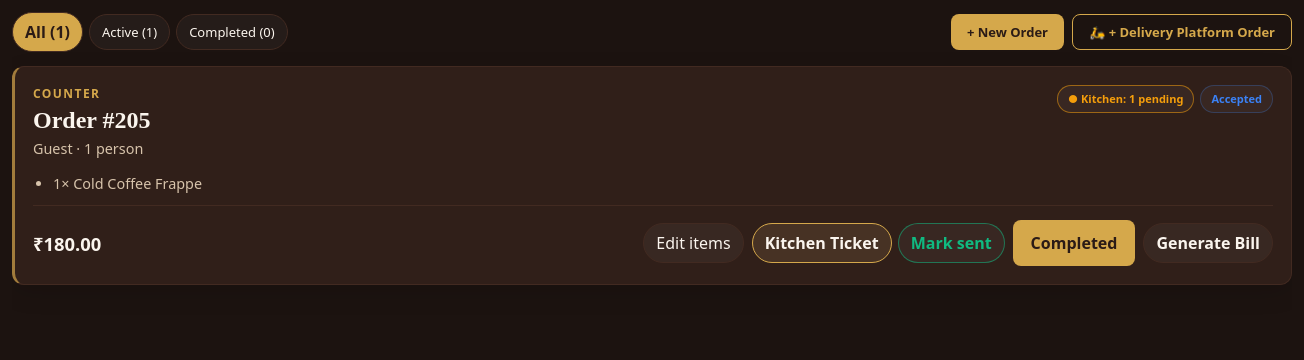
Pre-Deployment QA & Release Readiness Test Suite › Staff Order Lifecycle: Order Placed -> Accept Order -> Completed -> View Image › surfaces actual server errors when an action fails instead of generic messages
Click the button "Completed". click: (1074, 243)
box: x1=1013 y1=220 x2=1135 y2=266
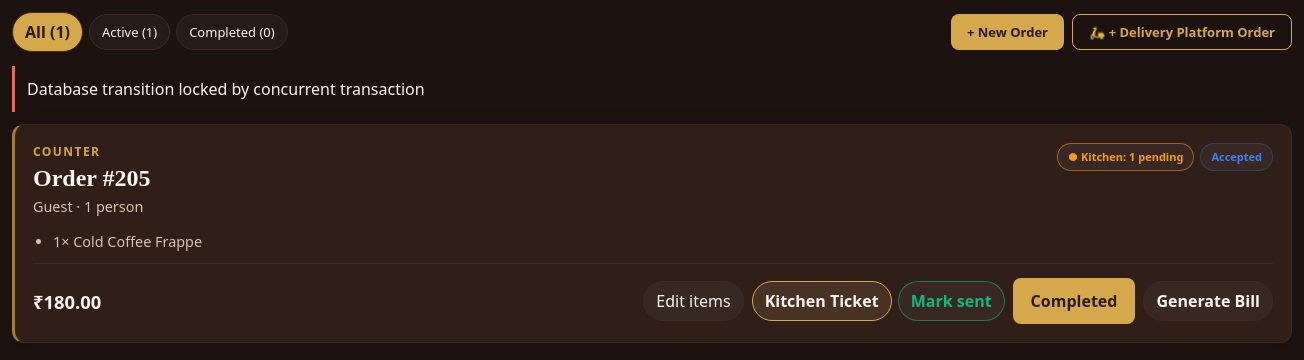
Result: the text "Database transition locked by concurrent transaction" is shown at x1=12 y1=66 x2=1292 y2=112
